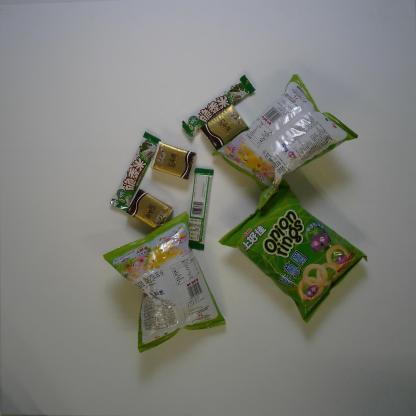Chocolate: (182, 74, 256, 137), (109, 131, 162, 211), (186, 167, 215, 251)
Puffed Food: (218, 178, 368, 324), (212, 74, 359, 210), (102, 210, 226, 354)
Tissue: (199, 104, 249, 151), (125, 189, 174, 229), (150, 141, 197, 180)
